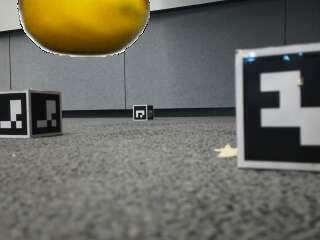lemon: (21, 0, 147, 54)
